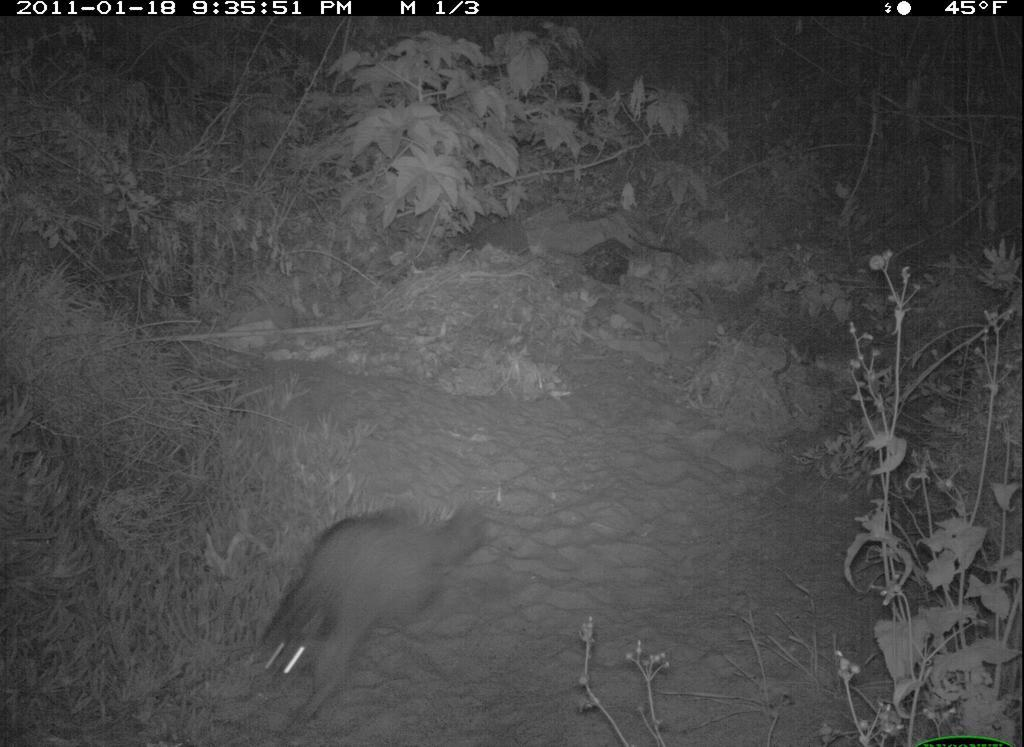raccoon: (235, 502, 496, 730)
